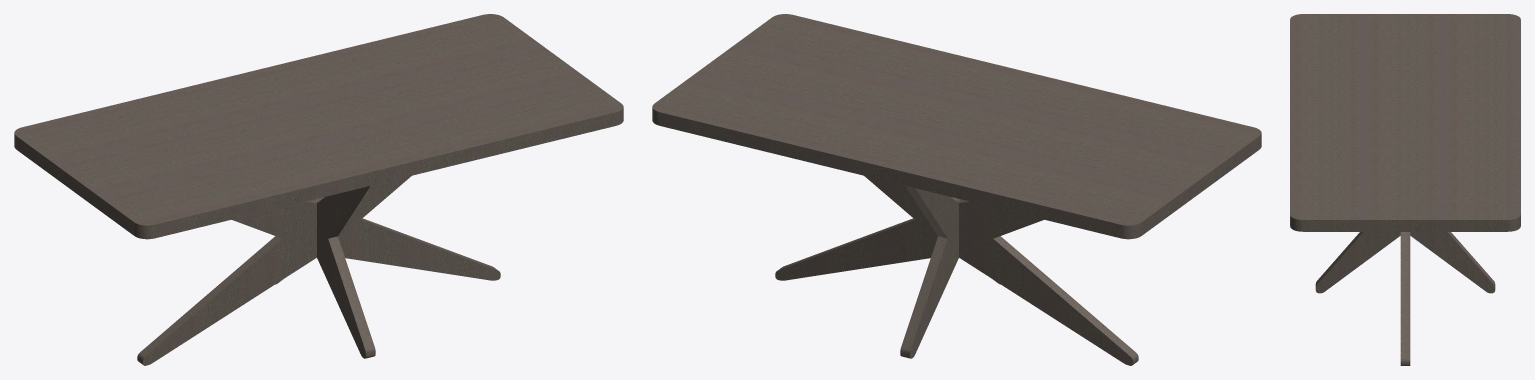
The model's file is table-dark.glb.
3 renders of one model, left to right at view 1: azimuth 30°, elevation 25°; view 2: azimuth 150°, elevation 25°; view 3: azimuth 270°, elevation 25°, orthographic. The views are drawn at different scales.
Visible parts, largest first — view 1: t_rect_a; view 2: t_rect_a; view 3: t_rect_a.
Part boxes in pixels (x1,y1,x2,y2): t_rect_a: (14,14,623,365); t_rect_a: (652,14,1261,365); t_rect_a: (1290,14,1520,365).
Bounding box in the file's own units: 1.9 × 0.7493 × 0.8992.
1 material, 1 textured.
